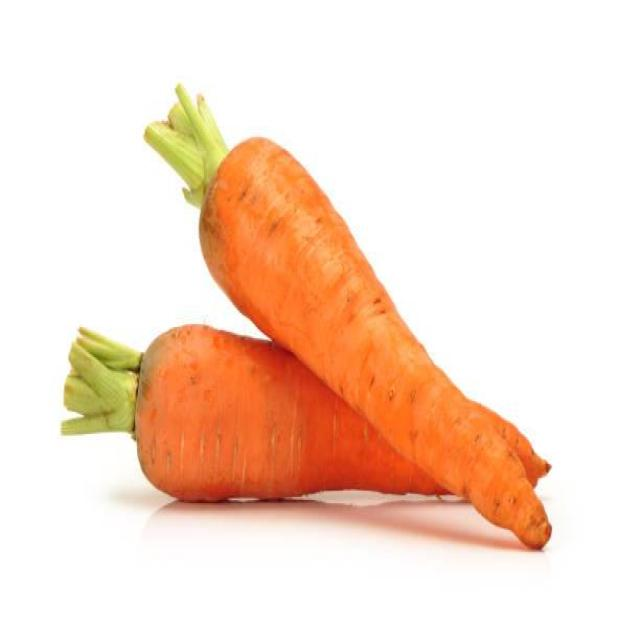Carrot: (199, 138, 550, 547), (135, 324, 448, 500)
